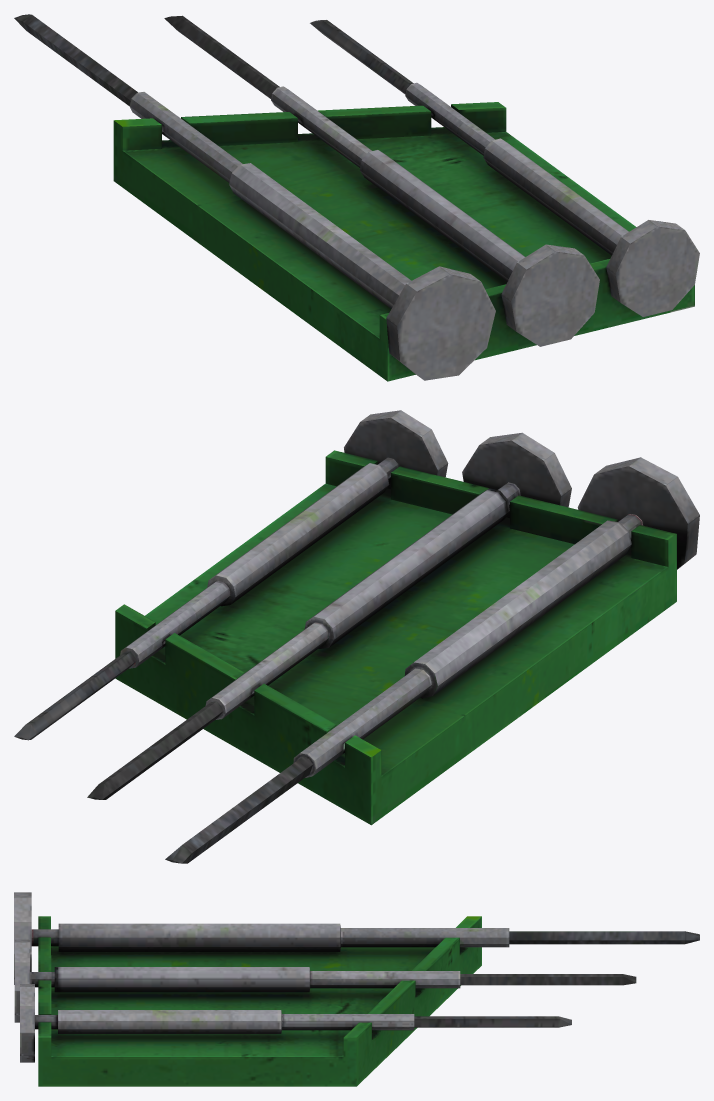
File: screwdriver_precision.dae
3 views of the same model, one above another, from view 1: azimuth 30°, elevation 25°; view 2: azimuth 150°, elevation 25°; view 3: azimuth 270°, elevation 25° (orthographic). The views are drawn at different scales.
Parts seen in each view (by area): view 1: screwdriver_precision; view 2: screwdriver_precision; view 3: screwdriver_precision.
Boxes of the visible parts, left/top/right/bottom form: screwdriver_precision: left=14, top=14, right=699, bottom=381; screwdriver_precision: left=14, top=410, right=699, bottom=863; screwdriver_precision: left=14, top=892, right=699, bottom=1086.
Size of the model in its own units: 5.04 by 1.65 by 11.84.
